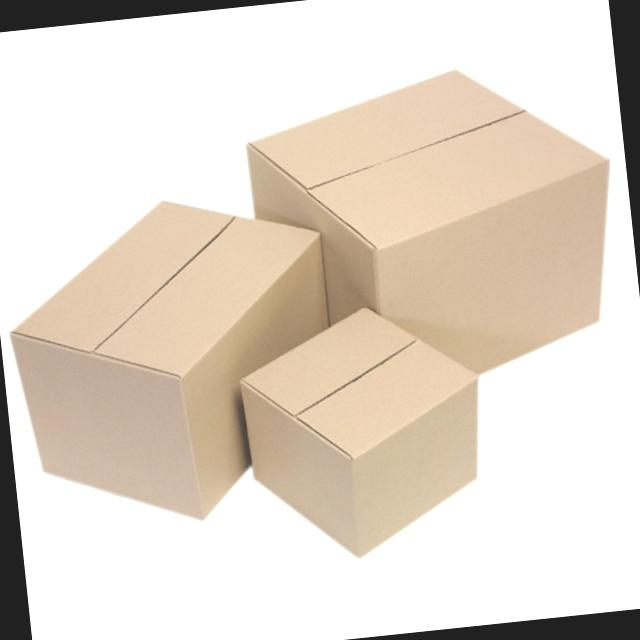Pathole: (227, 17, 632, 410), (0, 173, 362, 560), (223, 289, 520, 576)
